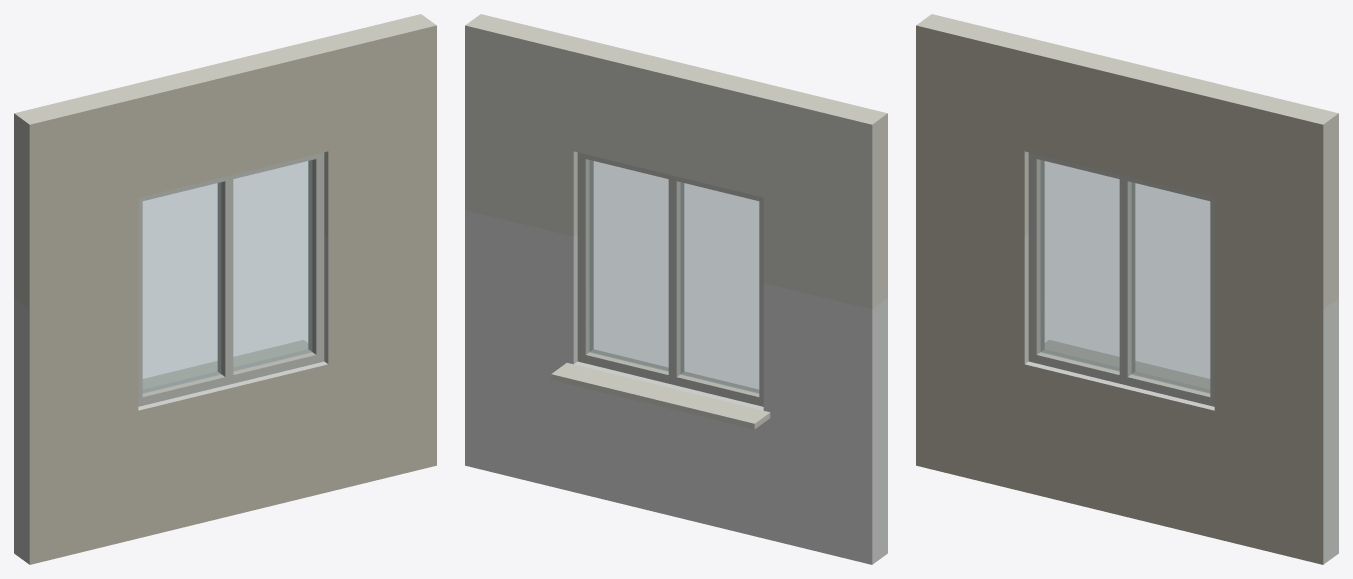
Rendered from hosp_wall_window_tile_ext.glb.
The picture shows the model from 3 angles, left to right: view 1: azimuth 30°, elevation 25°; view 2: azimuth 150°, elevation 25°; view 3: azimuth 330°, elevation 25°; orthographic projection.
Parts seen in each view (by area): view 1: hosp_wall_window_tile_ext-col; view 2: hosp_wall_window_tile_ext-col; view 3: hosp_wall_window_tile_ext-col.
Boxes of the visible parts, x1,y1,x2,y2 form: hosp_wall_window_tile_ext-col: (14,14,436,564); hosp_wall_window_tile_ext-col: (465,14,887,564); hosp_wall_window_tile_ext-col: (916,14,1338,564).
Bounding box in the file's own units: 3 × 3.1 × 0.4.
